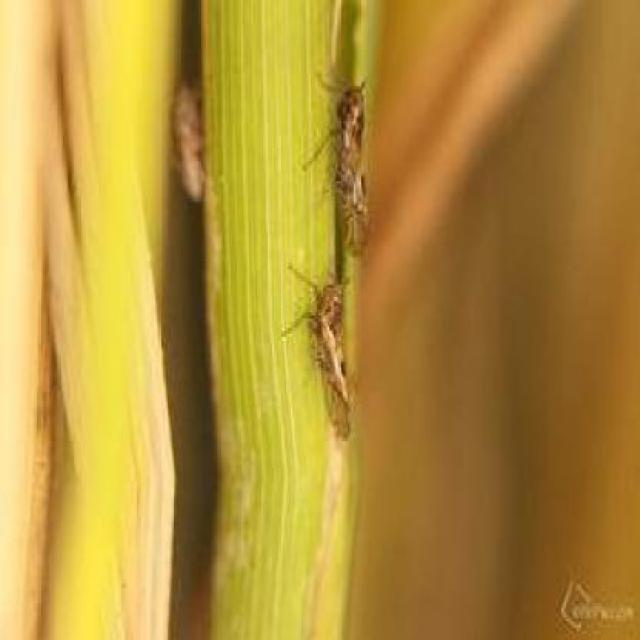brown-planthopper: (308, 275, 354, 443), (332, 84, 374, 250), (167, 82, 205, 200)
